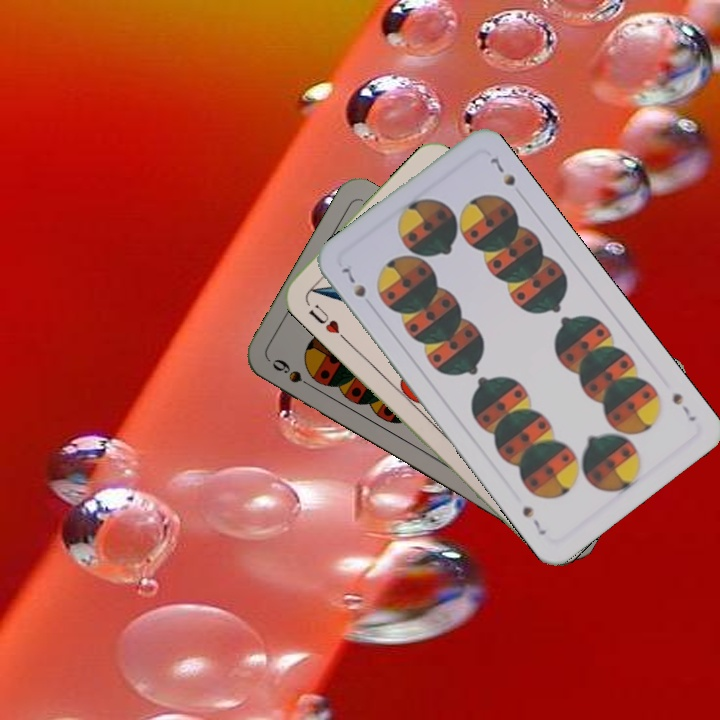HU: (304, 300, 342, 337)
S7: (337, 263, 369, 300), (668, 389, 699, 424)
S9: (268, 354, 320, 393)
